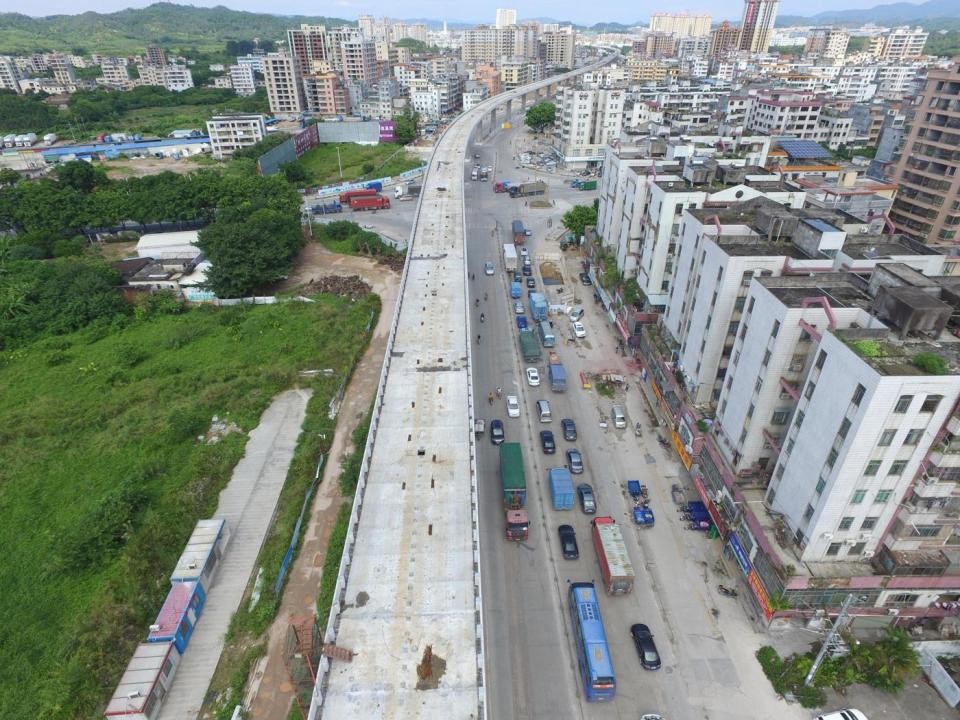bus: (564, 580, 614, 702), (539, 320, 554, 347), (481, 166, 488, 181), (471, 168, 478, 180)
car: (630, 624, 660, 670), (815, 707, 869, 720), (558, 524, 578, 559), (577, 483, 597, 514), (566, 448, 583, 472), (540, 431, 556, 454), (561, 418, 577, 441), (536, 400, 552, 422), (490, 419, 504, 444), (507, 396, 520, 417), (527, 368, 540, 386), (573, 322, 586, 338), (571, 308, 584, 321), (579, 273, 590, 285), (517, 315, 527, 328), (485, 263, 494, 275), (522, 266, 532, 276), (400, 194, 412, 202), (514, 302, 523, 312), (526, 277, 535, 287), (514, 272, 522, 282), (520, 247, 528, 256), (305, 205, 316, 211), (529, 290, 537, 298), (524, 229, 532, 236), (524, 256, 531, 264), (406, 179, 415, 184), (576, 170, 582, 176), (597, 171, 604, 176), (474, 153, 480, 158), (475, 164, 481, 169), (546, 166, 552, 171), (488, 166, 492, 172), (584, 172, 590, 176), (590, 172, 595, 176)
truck: (590, 516, 634, 596), (498, 442, 528, 541), (547, 468, 576, 509), (518, 328, 540, 362), (339, 188, 378, 204), (545, 363, 567, 391), (510, 181, 546, 198), (396, 186, 438, 199), (529, 293, 547, 321), (350, 198, 390, 209), (502, 244, 517, 272), (348, 195, 384, 206), (312, 202, 342, 215), (511, 220, 524, 246), (494, 180, 513, 194), (580, 179, 598, 190), (510, 281, 521, 298), (572, 178, 590, 188), (365, 182, 382, 192), (260, 126, 280, 132)
van: (611, 404, 627, 426)
